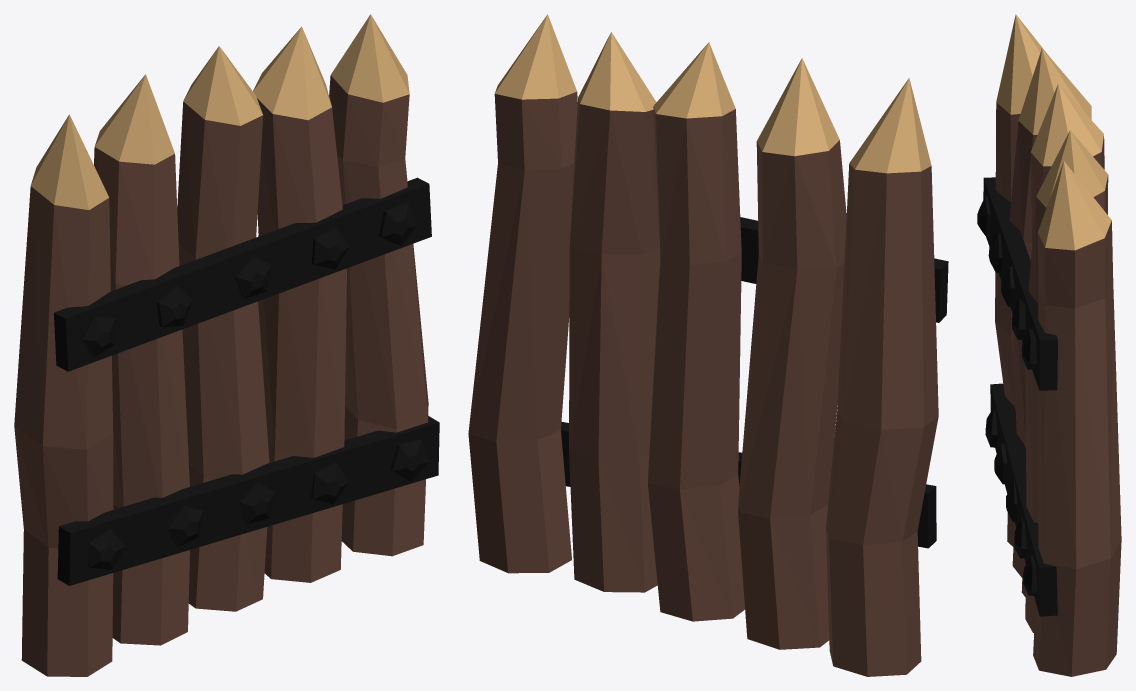
File: gate.glb
3 views of the same model, side by side, from view 1: azimuth 30°, elevation 25°; view 2: azimuth 150°, elevation 25°; view 3: azimuth 270°, elevation 25° (orthographic). The views are drawn at different scales.
Visible parts, largest first — view 1: node_MeshObject-30828544-PolyPaper16; view 2: node_MeshObject-30828544-PolyPaper16; view 3: node_MeshObject-30828544-PolyPaper16.
Part boxes in pixels (<box>): node_MeshObject-30828544-PolyPaper16: <box>14,14,439,676</box>; node_MeshObject-30828544-PolyPaper16: <box>468,14,948,676</box>; node_MeshObject-30828544-PolyPaper16: <box>977,14,1121,676</box>.
Bounding box in the file's own units: 0.5687 × 0.7291 × 0.1797.
